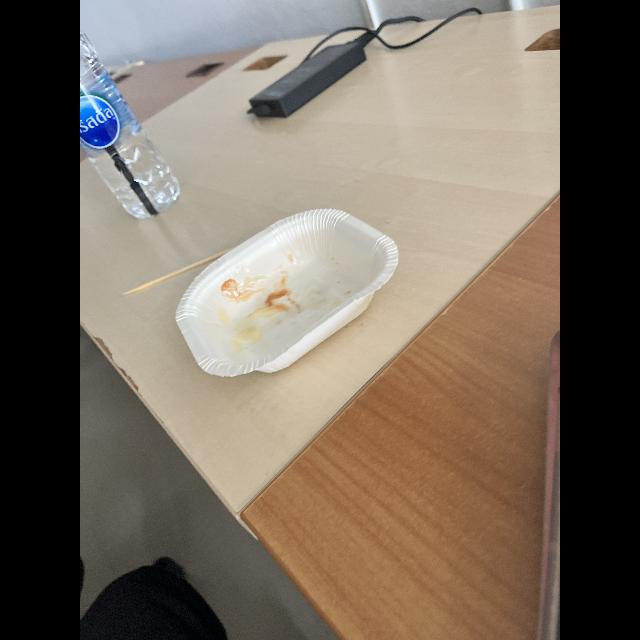cardboard_bowl: (168, 200, 404, 380)
stick: (118, 254, 230, 296)
